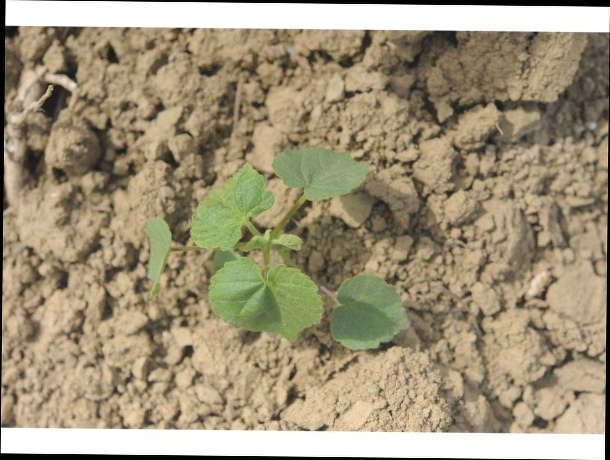velvet: (147, 144, 412, 349)
